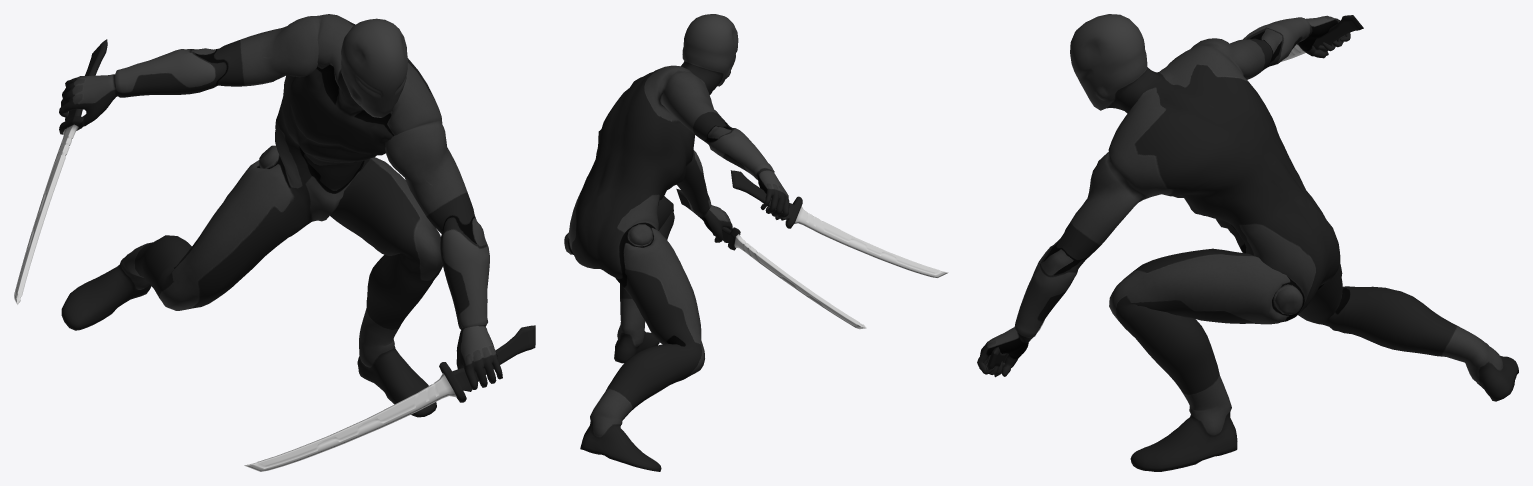
The picture shows the model from 3 angles, left to right: view 1: azimuth 30°, elevation 25°; view 2: azimuth 150°, elevation 25°; view 3: azimuth 270°, elevation 25°; orthographic projection. The views are drawn at different scales.
Visible parts, largest first — view 1: Cyborg_Ninja_Killer, Sword_l, Sword_l001; view 2: Cyborg_Ninja_Killer, Sword_l001, Sword_l; view 3: Cyborg_Ninja_Killer, Sword_l001.
Boxes of the visible parts, <box> form: Cyborg_Ninja_Killer: <box>59,14,502,417</box>; Sword_l: <box>244,325,535,471</box>; Sword_l001: <box>14,39,107,304</box>; Cyborg_Ninja_Killer: <box>564,14,789,471</box>; Sword_l001: <box>730,170,948,277</box>; Sword_l: <box>676,188,866,329</box>; Cyborg_Ninja_Killer: <box>977,14,1518,471</box>; Sword_l001: <box>1281,15,1363,61</box>.
Bounding box in the file's own units: 135 × 125 × 147.
Materials: 2 (2 with a texture image).
